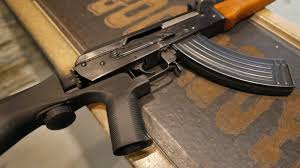Gun: (1, 1, 290, 162)
